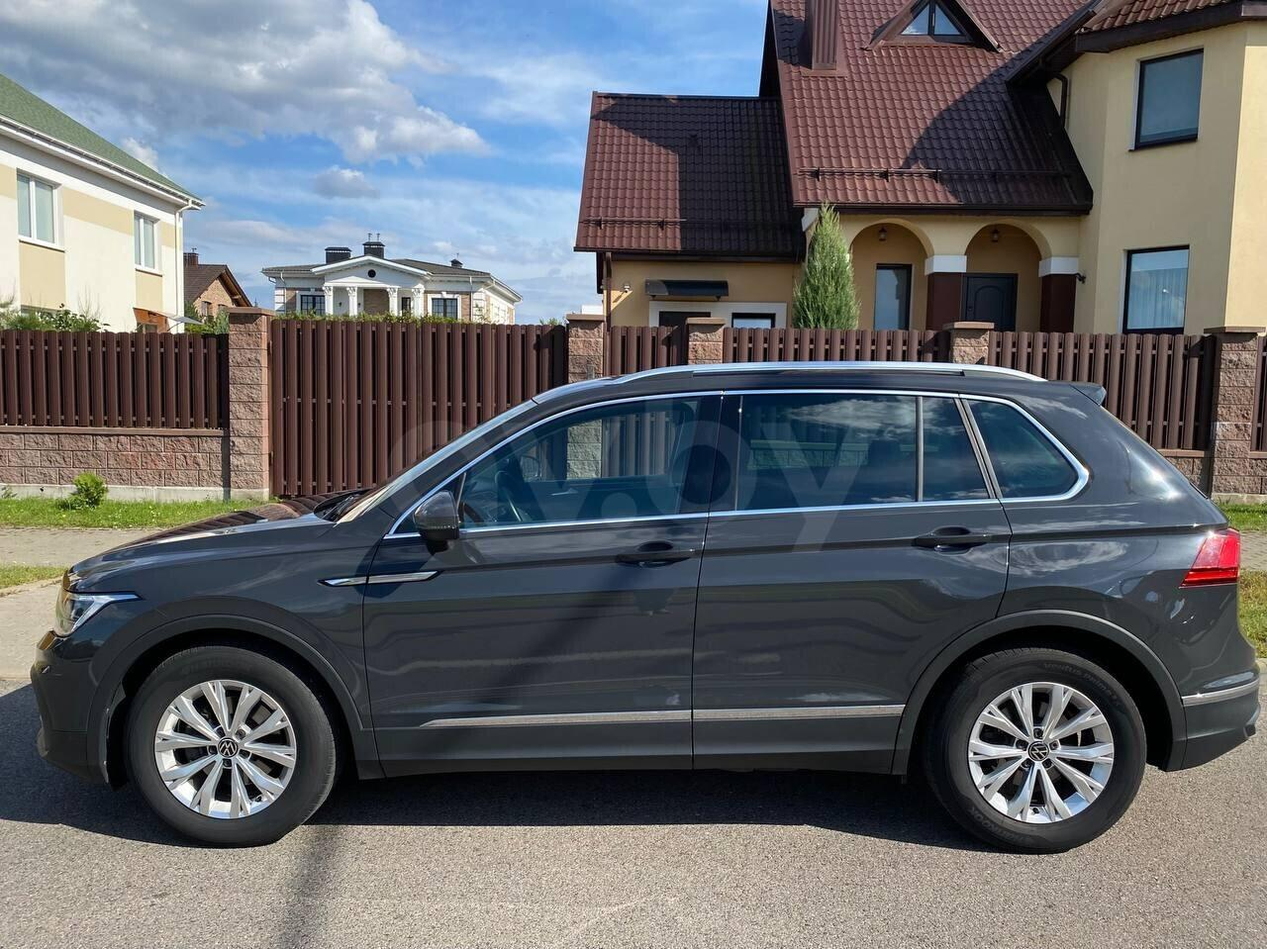Tiguan_2020-2024: (28, 355, 1265, 856)
